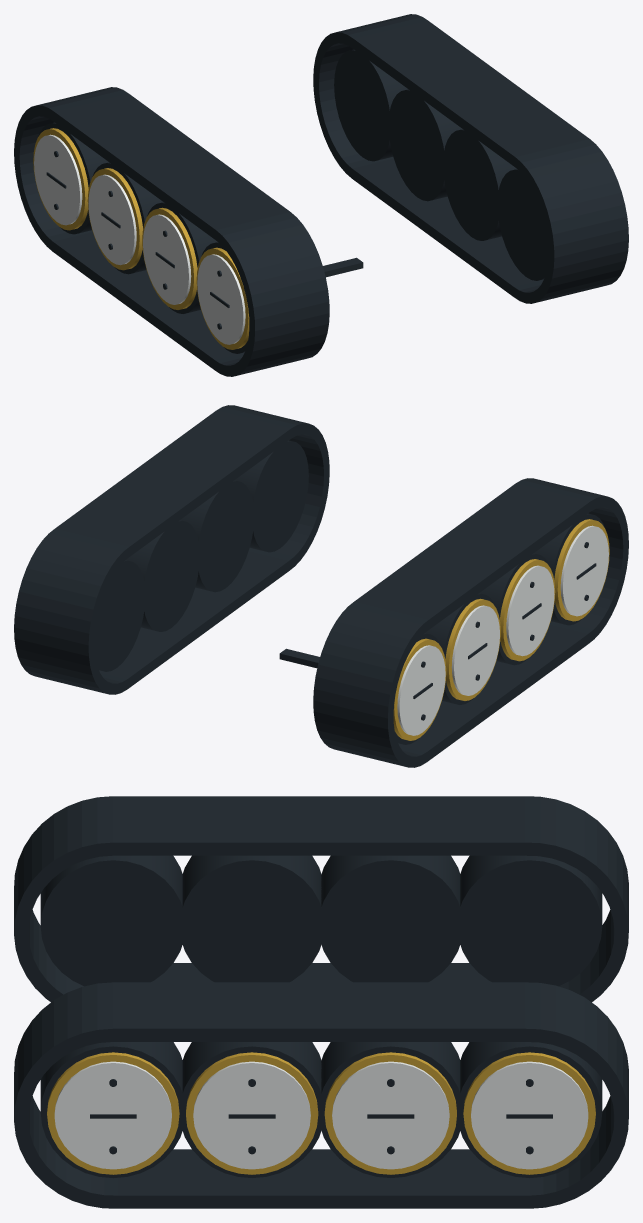
Rendered from heavy_tracks_runtime_tracks.glb.
3 views of the same model, one above another, from view 1: azimuth 30°, elevation 25°; view 2: azimuth 150°, elevation 25°; view 3: azimuth 270°, elevation 25° (orthographic). The views are drawn at different scales.
Visible parts, largest first — view 1: TrackRig_81, TrackRig_0, WheelLeft0_138, WheelLeft2_150, WheelLeft1_144, WheelLeft3_156, WheelRight3_77, WheelRight1_65, WheelRight0_59, WheelRight2_71, WheelRight0_58, WheelRight1_64 (+5 smaller); view 2: TrackRig_81, TrackRig_0, WheelLeft2_150, WheelLeft1_144, WheelLeft3_156, WheelLeft0_138, WheelRight0_59, WheelRight2_71, WheelRight3_77, WheelRight1_65, WheelRight3_76, WheelRight2_70 (+5 smaller); view 3: TrackRig_81, TrackRig_0, WheelRight1_63, WheelRight2_69, WheelRight0_57, WheelRight3_75, WheelLeft1_146, WheelLeft2_152, WheelLeft0_140, WheelLeft3_158, WheelLeft1_144, WheelLeft2_150 (+6 smaller).
Part boxes in pixels (x1,y1,x2,y2): TrackRig_81: (313,14,628,303); TrackRig_0: (14,87,329,376); WheelLeft0_138: (334,49,407,161); WheelLeft2_150: (443,129,516,240); WheelLeft1_144: (388,89,462,201); WheelLeft3_156: (498,169,548,280); WheelRight3_77: (197,254,245,344); WheelRight1_65: (88,174,136,265); WheelRight0_59: (34,134,82,225); WheelRight2_71: (143,214,191,304); WheelRight0_58: (33,128,88,230); WheelRight1_64: (87,168,142,270); TrackRig_81: (14,405,329,694); TrackRig_0: (313,478,628,767); WheelLeft2_150: (180,480,254,592); WheelLeft1_144: (126,520,199,631); WheelLeft3_156: (235,440,308,552); WheelLeft0_138: (94,560,145,671); WheelRight0_59: (397,645,445,735); WheelRight2_71: (506,565,554,656); WheelRight3_77: (560,525,608,616); WheelRight1_65: (451,605,499,695); WheelRight3_76: (554,519,609,621); WheelRight2_70: (500,559,555,661); TrackRig_81: (14,982,628,1208); TrackRig_0: (14,796,628,1002); WheelRight1_63: (318,855,463,982); WheelRight2_69: (179,855,324,982); WheelRight0_57: (457,855,602,986); WheelRight3_75: (40,855,185,986); WheelLeft1_146: (332,1061,449,1169); WheelLeft2_152: (193,1061,310,1169); WheelLeft0_140: (471,1061,588,1169); WheelLeft3_158: (54,1061,171,1169); WheelLeft1_144: (318,1042,463,1177); WheelLeft2_150: (179,1042,324,1177).
Bounding box in the file's own units: 1.7 × 0.655 × 1.9.
